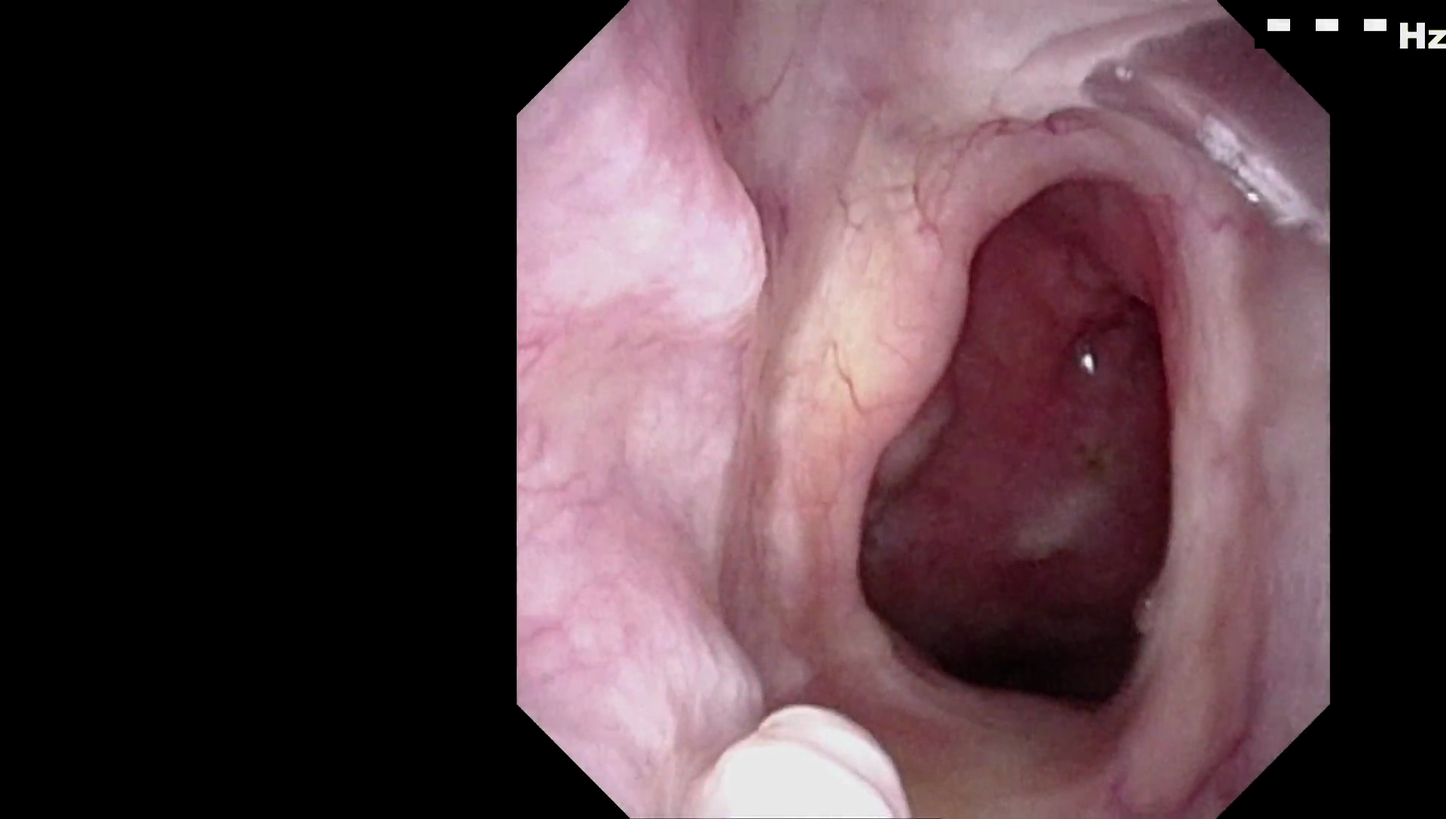next: (845, 506, 1209, 733)
